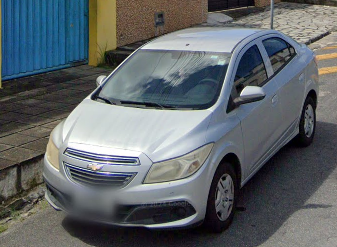car: (45, 26, 321, 229)
